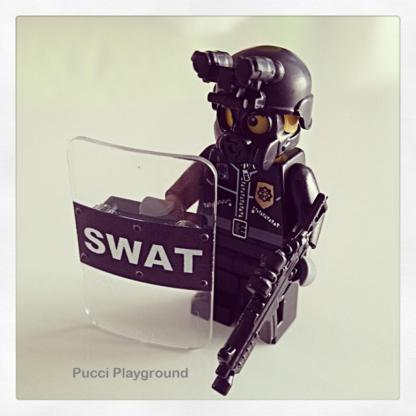Helmet: (210, 55, 305, 163)
